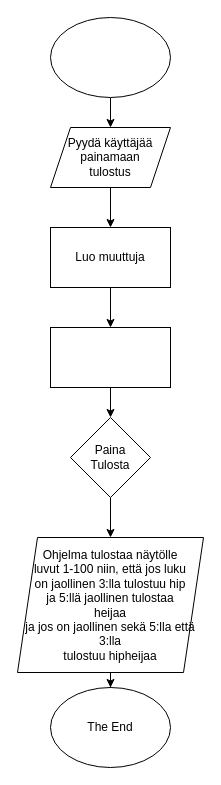
This 221x785 diagram has some shape labels left out. Each missing label, with the centre of its shape:
"Aloitus HTML-sivu" belongs at point 110,57.
"Lue muuttujaan käyttäjän valinta" belongs at point 110,357.
